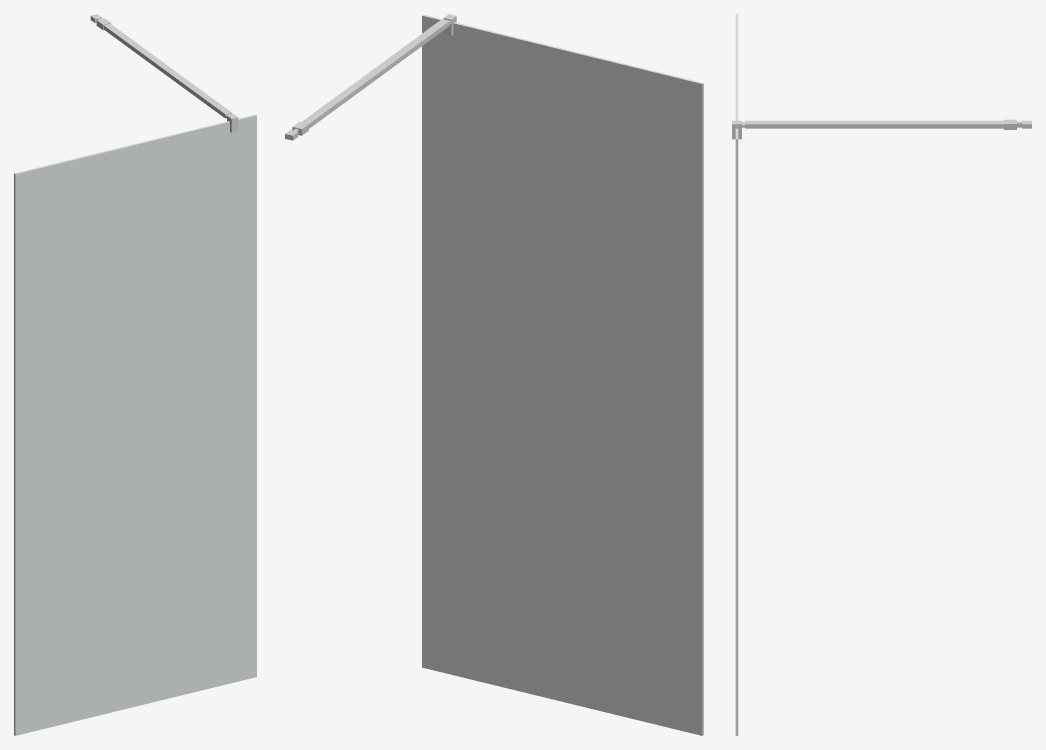
File: AEC_49636.glb
3 views of the same model, side by side, from view 1: azimuth 30°, elevation 25°; view 2: azimuth 150°, elevation 25°; view 3: azimuth 270°, elevation 25° (orthographic). The views are drawn at different scales.
Visible parts, largest first — view 1: 0; view 2: 0; view 3: 0.
Boxes of the visible parts, box(x1,y1,x2,y2) form: 0: box(14, 14, 256, 735); 0: box(285, 14, 703, 735); 0: box(732, 14, 1031, 735).
Size of the model in its own units: 0.9 by 2.02 by 0.9111.
1 material, 1 textured.
